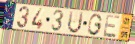3: (51, 9, 65, 33), (16, 6, 30, 30)
4: (30, 7, 44, 31)
E: (102, 14, 121, 39)
G: (87, 13, 103, 37)
U: (66, 10, 85, 35)
